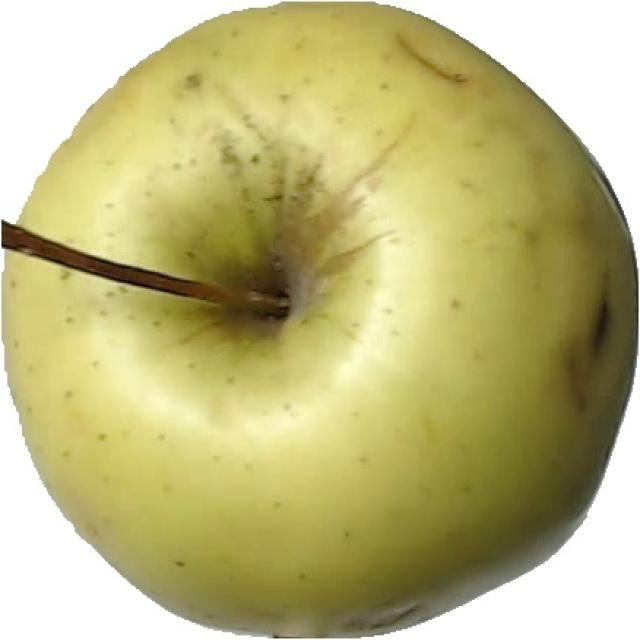Golden Elma: (6, 6, 594, 616)
